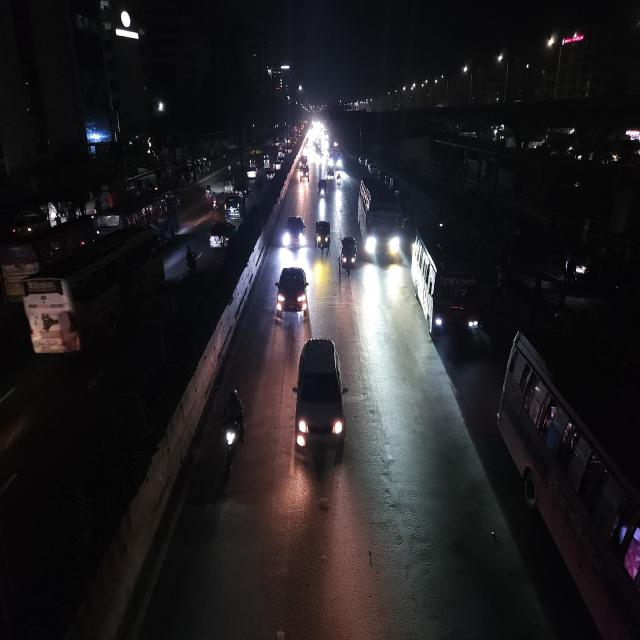bus: (496, 323, 640, 640), (18, 224, 164, 367), (410, 221, 486, 345), (356, 173, 404, 265), (131, 193, 184, 240), (327, 144, 342, 169)
car: (292, 333, 346, 460), (273, 262, 310, 328), (207, 219, 237, 254), (281, 211, 307, 251), (220, 189, 246, 227), (317, 178, 329, 201), (245, 167, 258, 180), (264, 168, 274, 182)
cng: (338, 230, 358, 276), (313, 216, 332, 256), (223, 169, 235, 193)
motorcycle: (217, 386, 247, 478), (203, 182, 215, 209), (335, 172, 342, 192)
